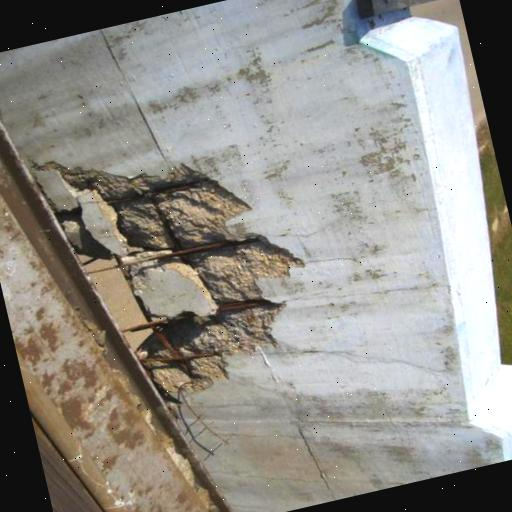spalling: (161, 160, 303, 408)
